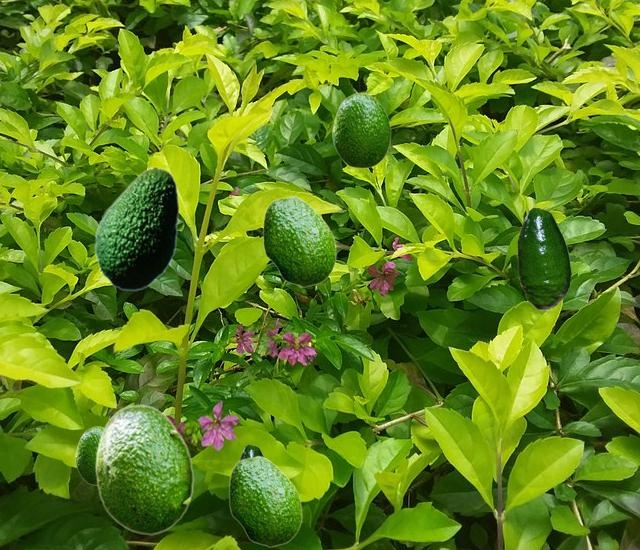avocado: (94, 404, 193, 534), (94, 166, 178, 290), (228, 455, 301, 546), (262, 195, 335, 286), (517, 207, 570, 309), (332, 92, 390, 167), (75, 426, 102, 484), (239, 444, 264, 459)
